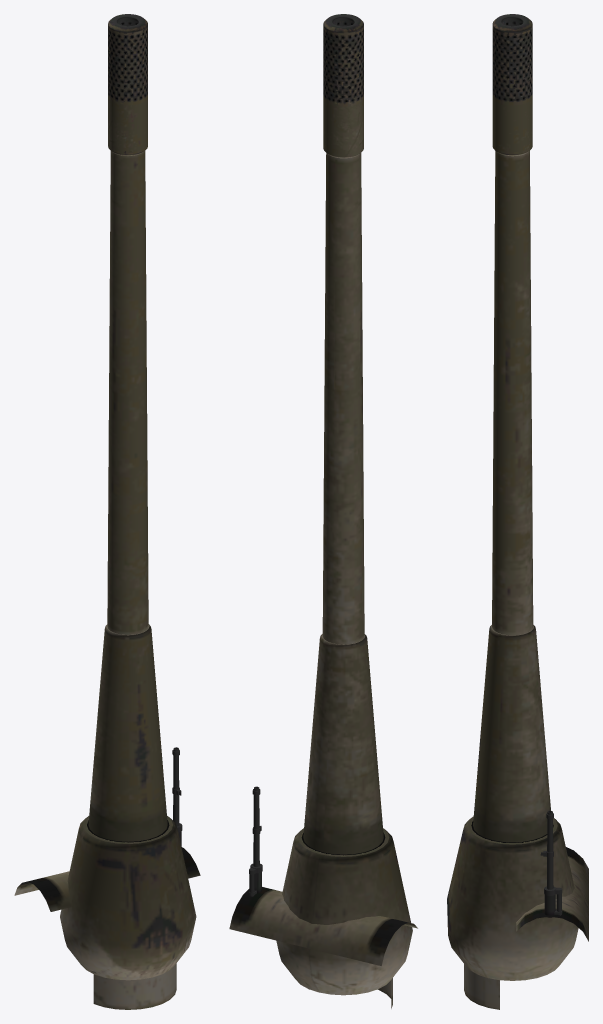
The model's file is Gun_04.glb.
The picture shows the model from 3 angles, left to right: view 1: azimuth 30°, elevation 25°; view 2: azimuth 150°, elevation 25°; view 3: azimuth 270°, elevation 25°; orthographic projection.
Parts seen in each view (by area): view 1: set_0_group_0; view 2: set_0_group_0; view 3: set_0_group_0.
Part boxes in pixels (box(x1,y1,x2,y2)): set_0_group_0: box(14, 14, 200, 1009); set_0_group_0: box(229, 14, 417, 1008); set_0_group_0: box(447, 14, 588, 1009).
Bounding box in the file's own units: 0.6151 × 3.79 × 0.5039.
Materials: 1 (1 with a texture image).
